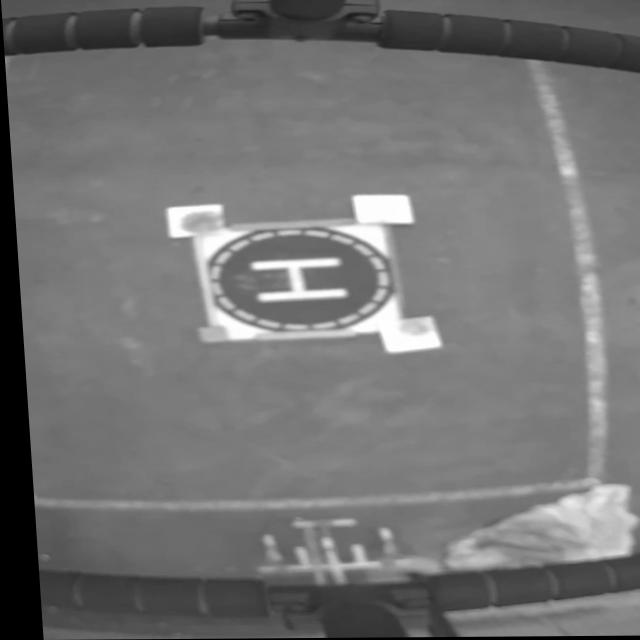Helipad: (243, 256, 341, 304)
